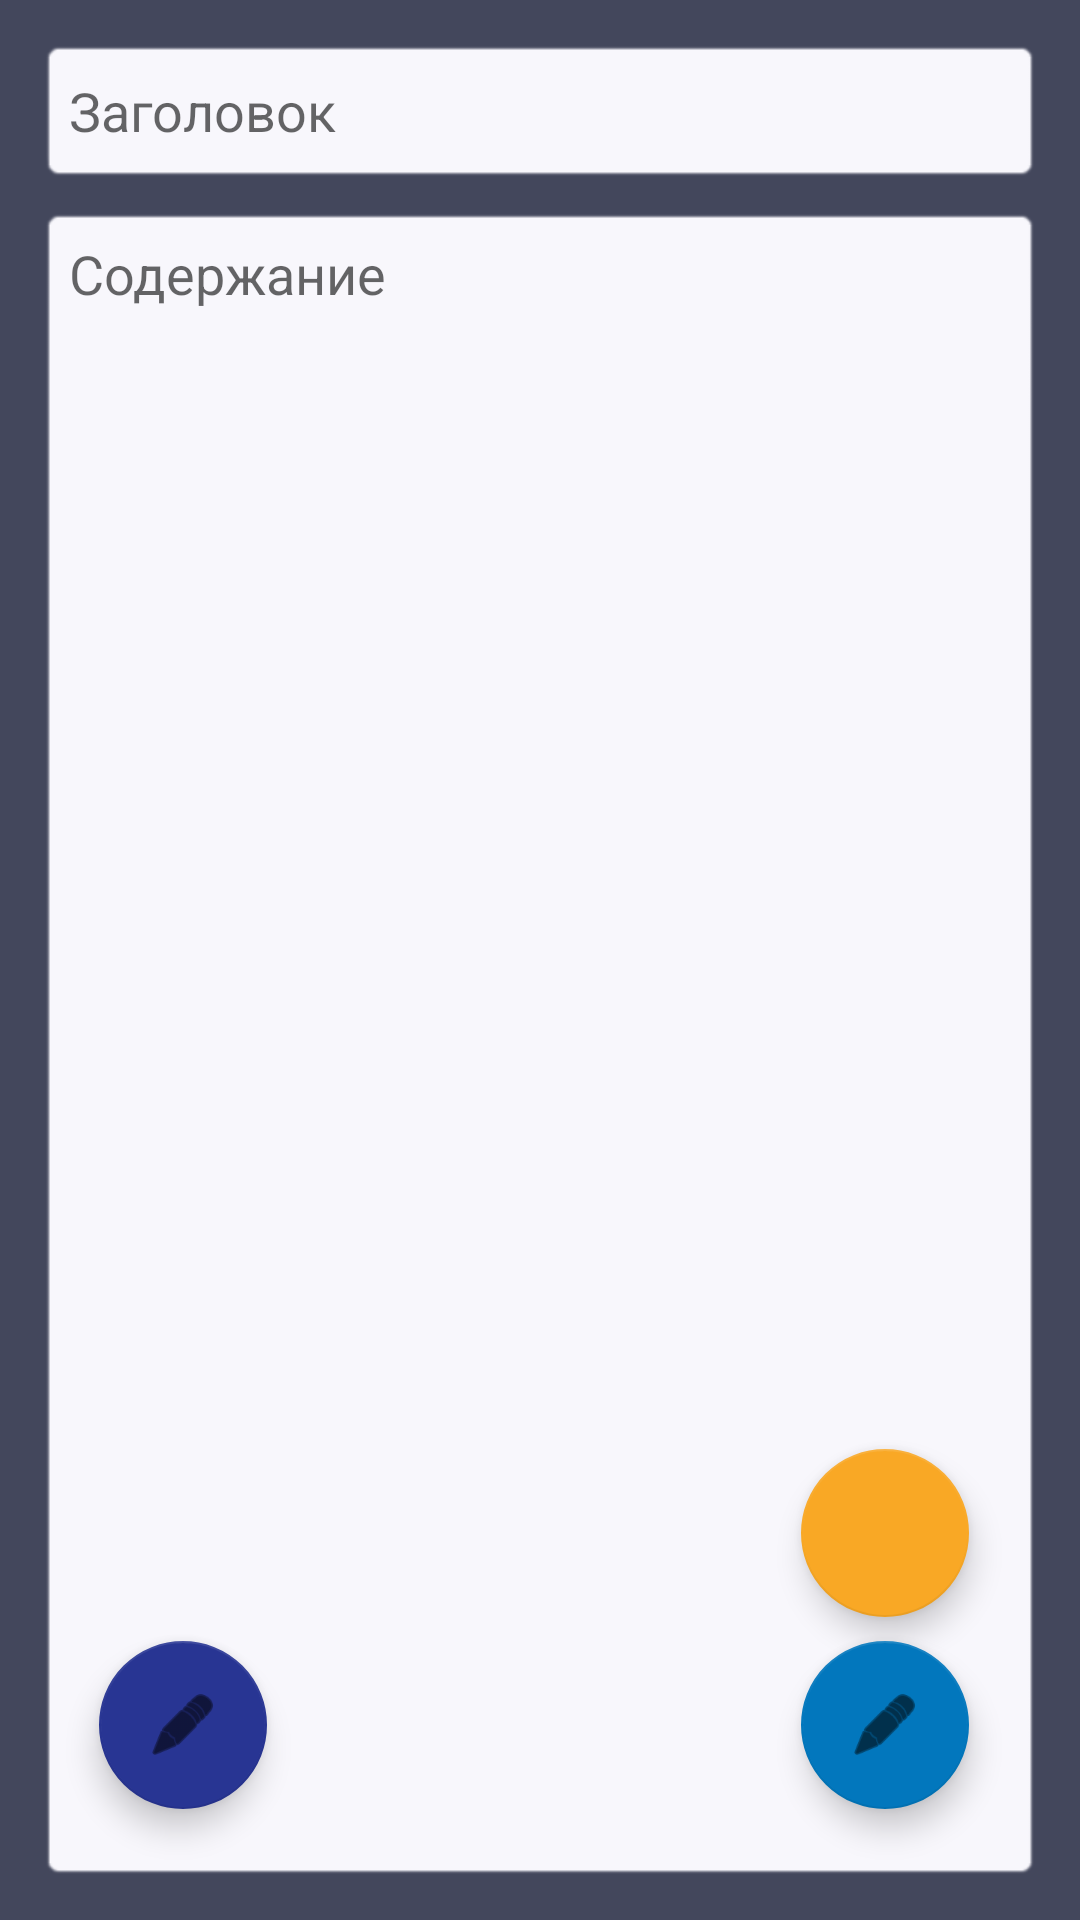

Locate icon controls on the screen. Image size 1080w x 1920h, boxes as (x1, y1, x2, y2).
edit: (99, 1641, 267, 1809), (801, 1641, 969, 1809)
